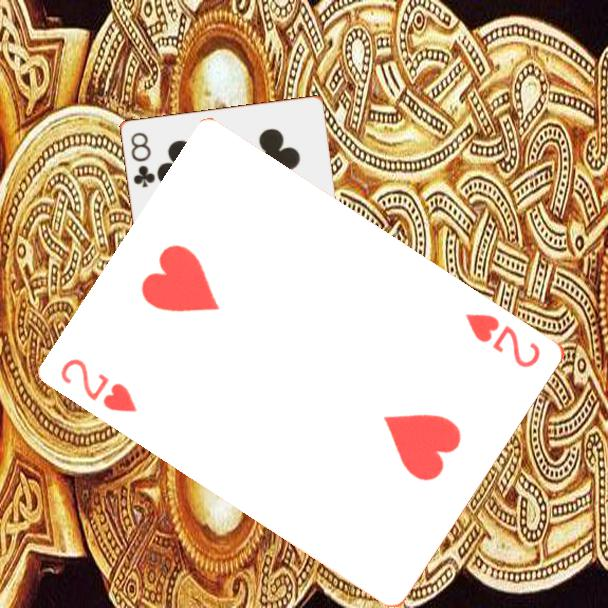c08: (127, 129, 158, 190)
h02: (57, 354, 141, 415), (462, 309, 544, 371)
